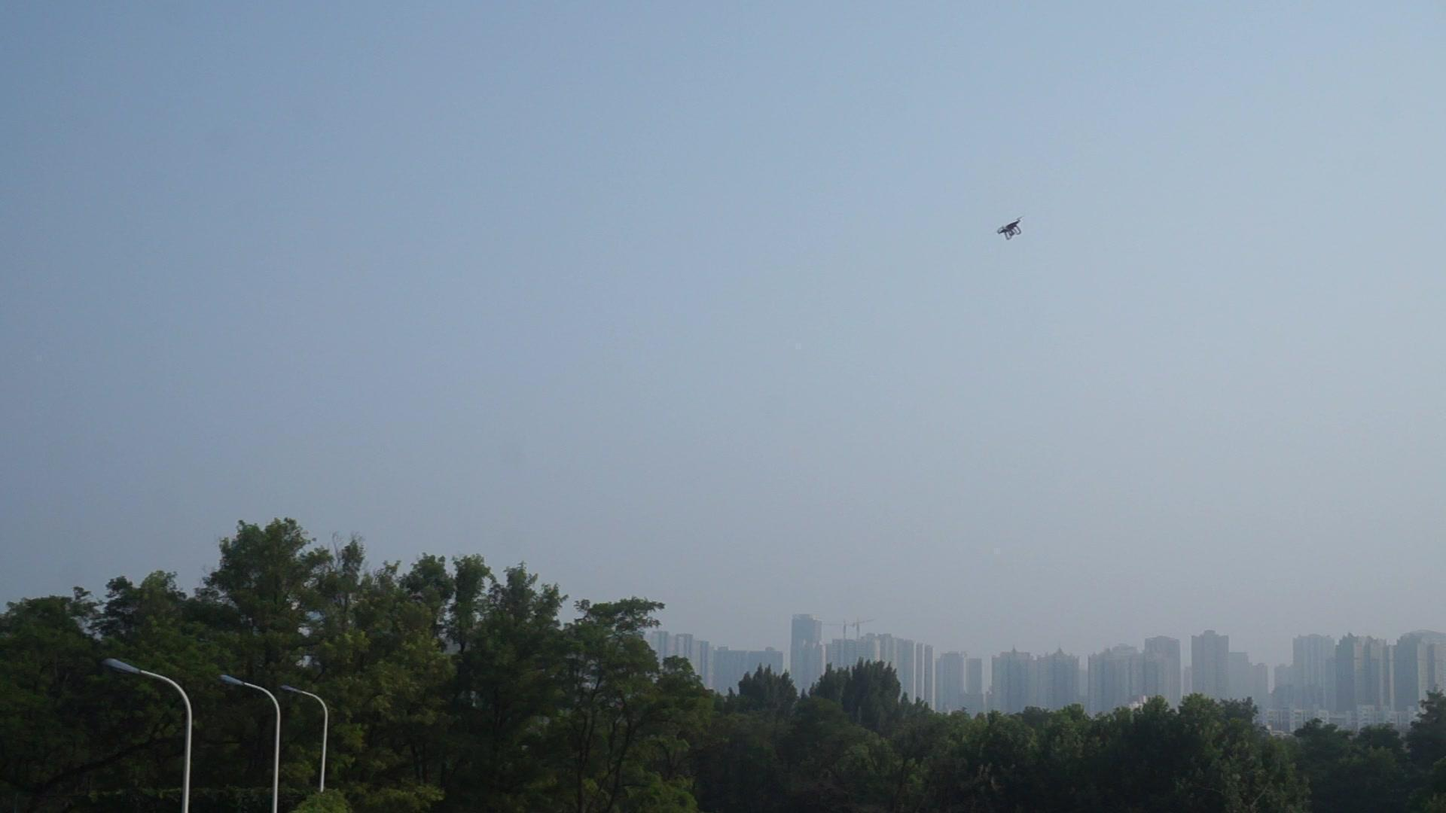UAV: (998, 216, 1025, 241)
